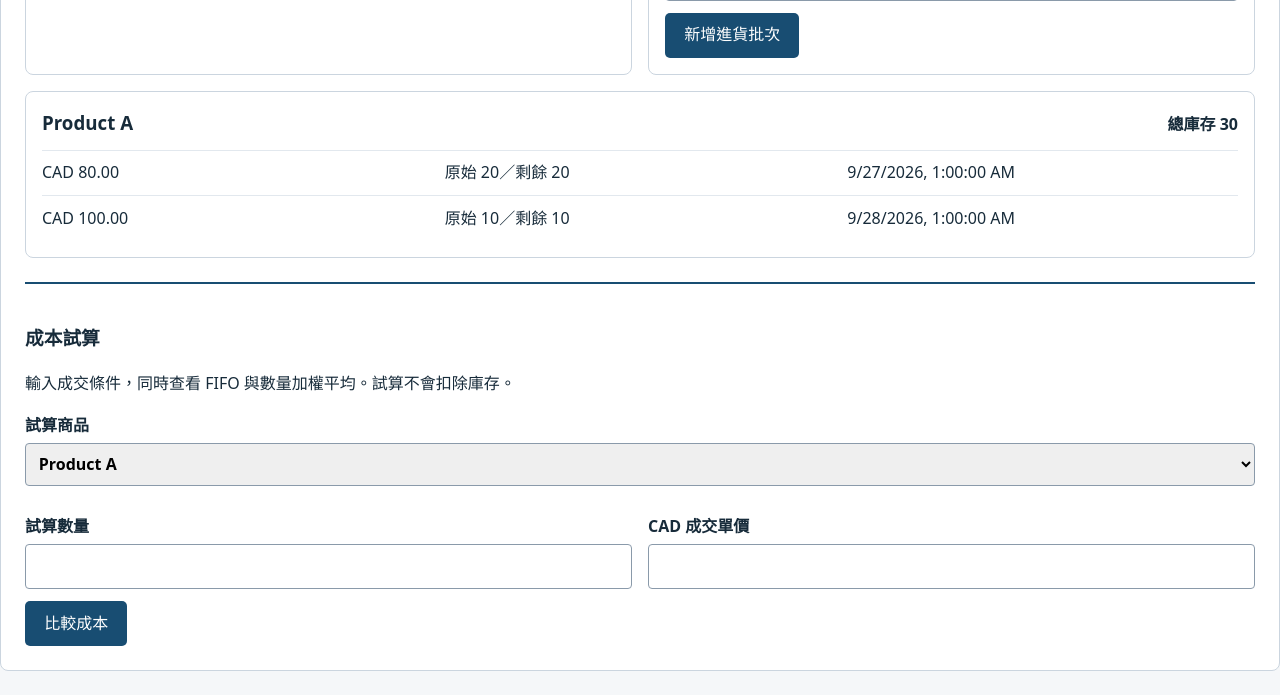
商品、進貨與庫存 › 試算期間顯示 loading 並禁止重複送出
The width and height of the screenshot is (1280, 695).
(page scrolled)
Check: the dropdown labelled "試算商品" shows "Product A", box x1=25 y1=443 x2=1255 y2=486
Type "25" into the number field labelled "試算數量" at (328, 566), box x1=25 y1=544 x2=632 y2=589
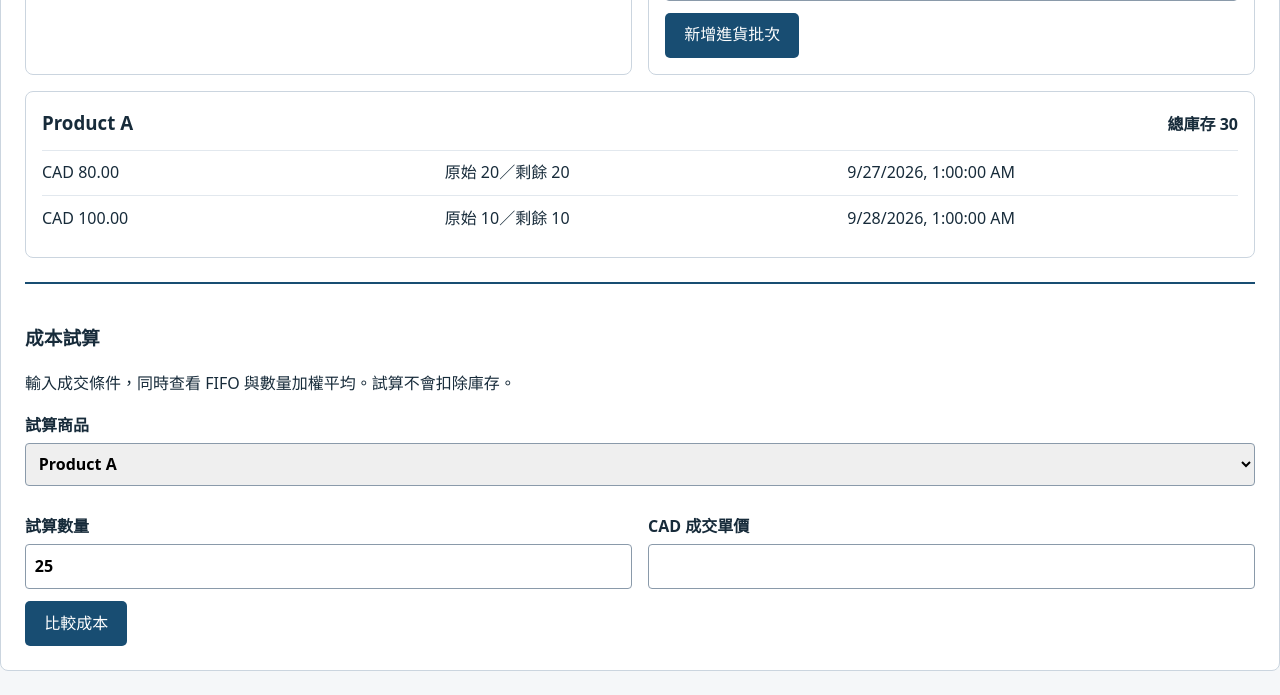
Type "120" into the number field labelled "CAD 成交單價" at (952, 566), box x1=648 y1=544 x2=1255 y2=589
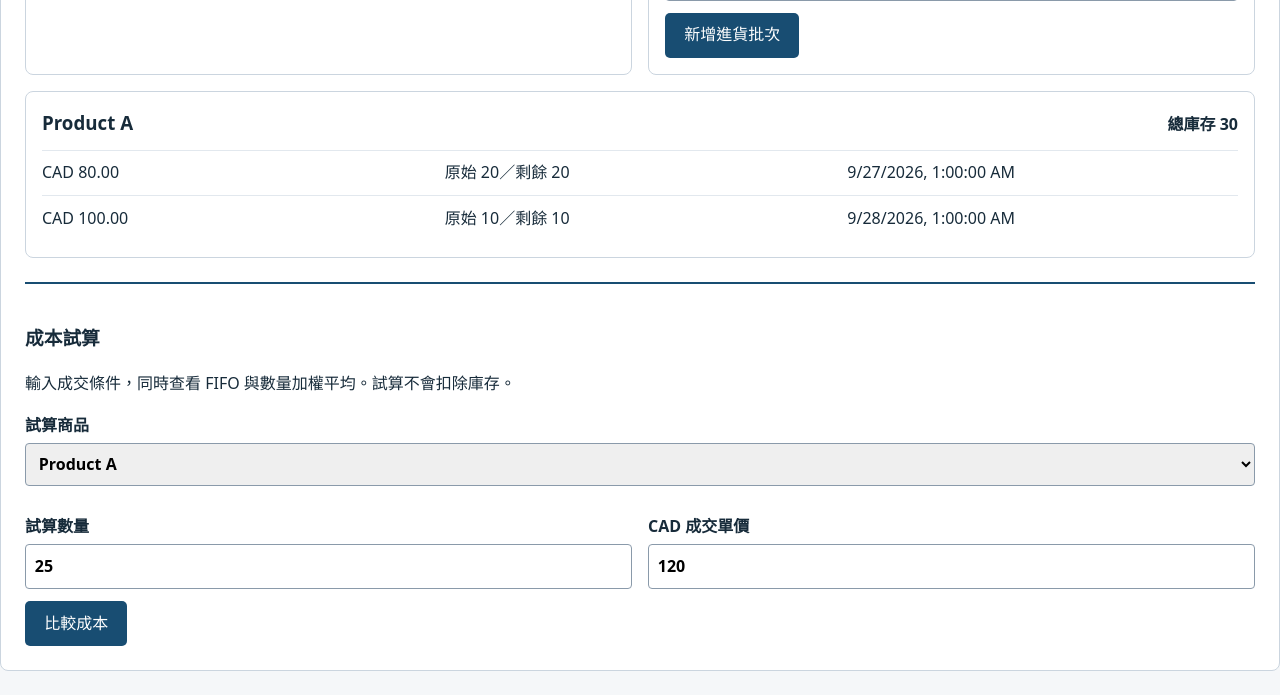
Click the button "比較成本" at (76, 623), box x1=25 y1=601 x2=127 y2=646
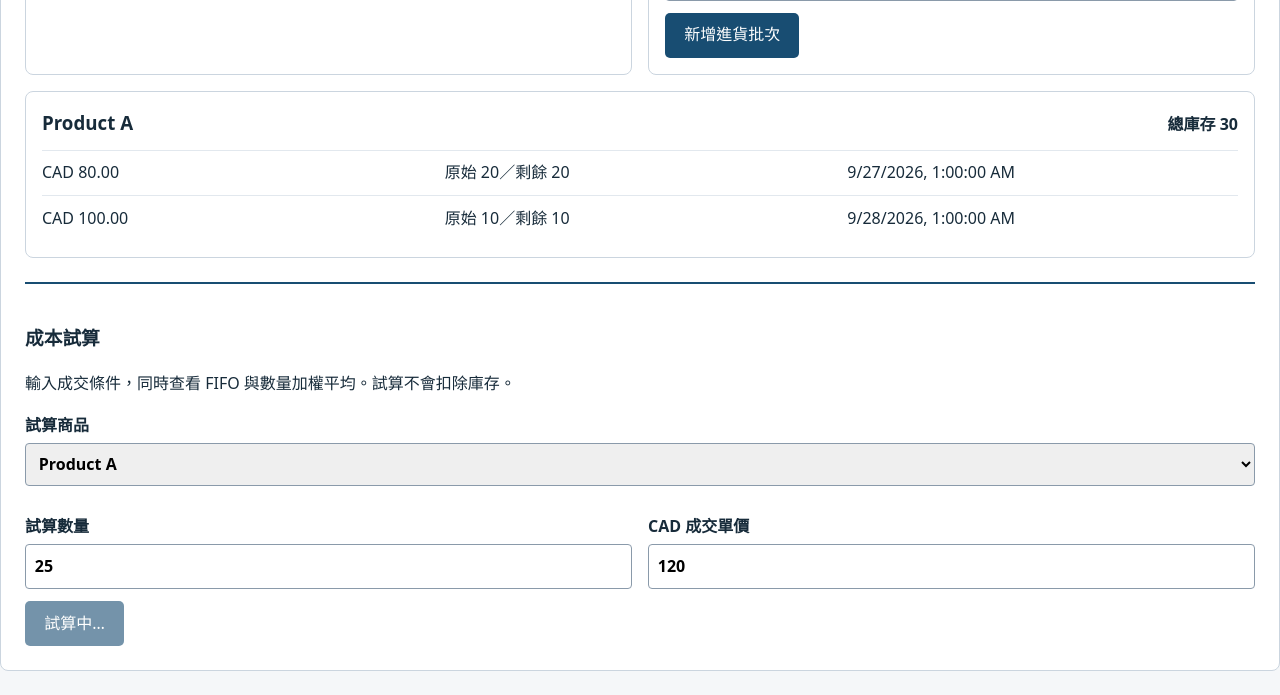
Check: the button "試算中…" is disabled, box x1=25 y1=601 x2=124 y2=646
